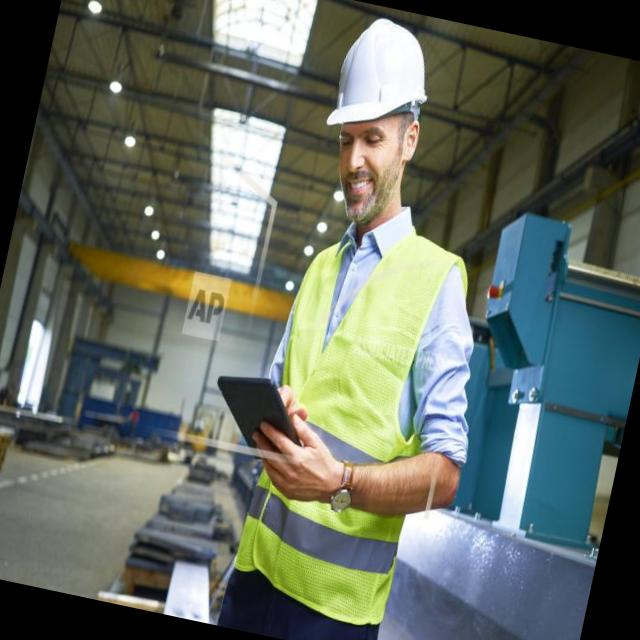Helmet: (225, 223, 473, 640), (315, 8, 449, 156)
